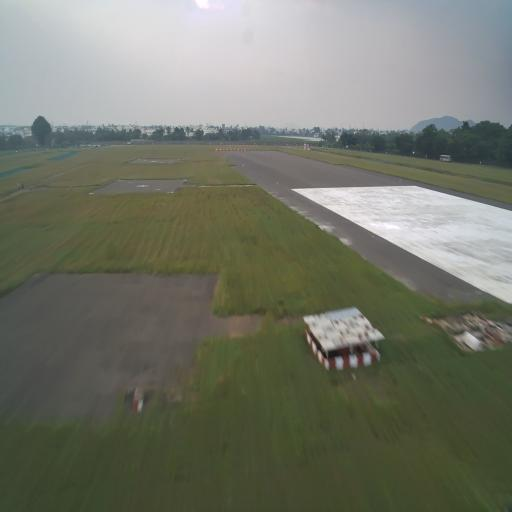off: (371, 234, 375, 239), (295, 194, 298, 198), (341, 181, 343, 184), (262, 175, 263, 178)
on: (276, 181, 278, 186), (216, 148, 218, 152), (223, 148, 225, 152), (230, 148, 232, 152), (237, 148, 239, 152), (240, 148, 242, 152), (331, 162, 333, 166), (242, 164, 244, 167), (226, 149, 228, 151), (234, 149, 236, 151), (245, 148, 246, 152), (251, 149, 253, 151), (225, 155, 227, 157), (400, 178, 401, 182), (215, 149, 216, 152), (220, 149, 221, 151), (248, 149, 249, 151), (294, 154, 295, 156)
